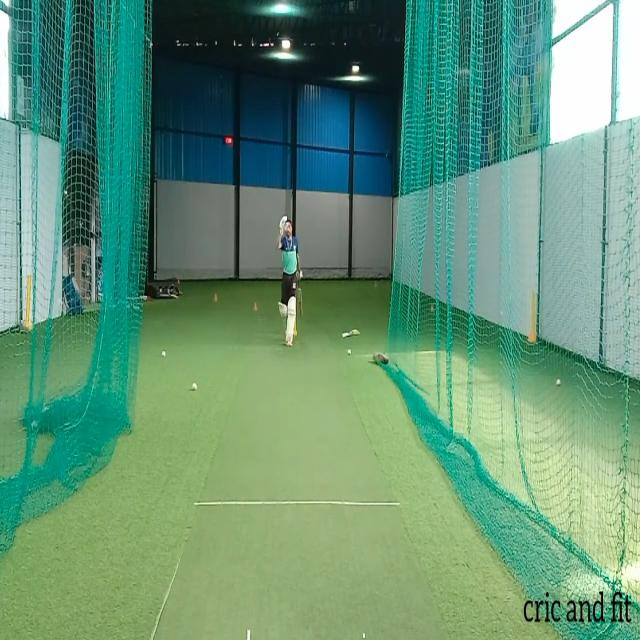batsman: (275, 214, 303, 348)
